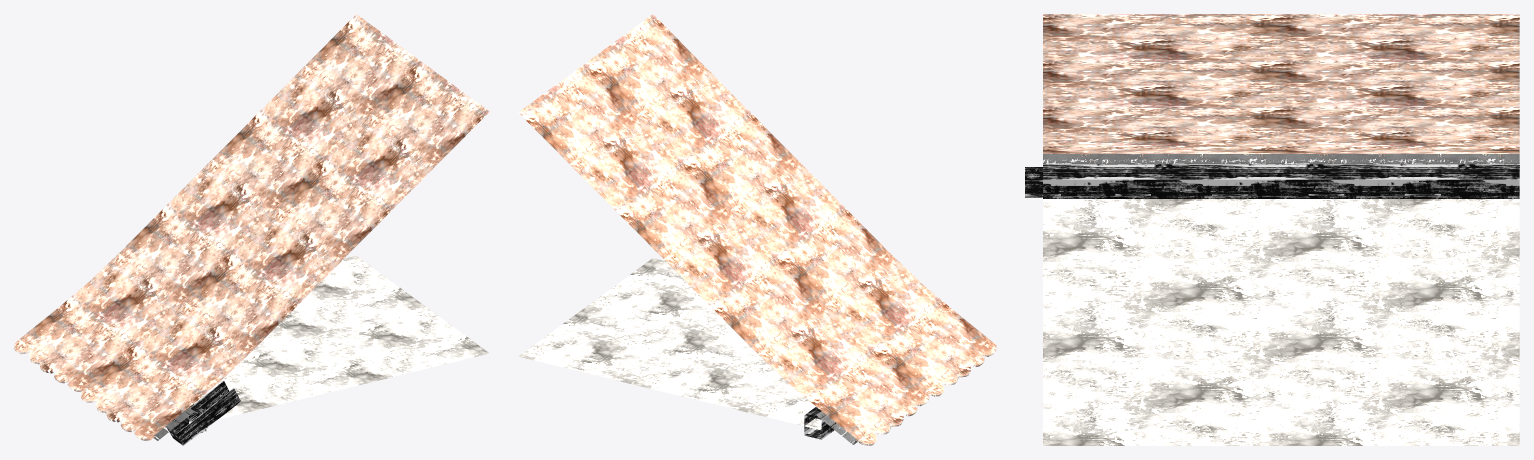
File: SM_roof_A_part_4_02_04.fbx
3 renders of one model, left to right at view 1: azimuth 30°, elevation 25°; view 2: azimuth 150°, elevation 25°; view 3: azimuth 270°, elevation 25°, orthographic. The views are drawn at different scales.
Parts seen in each view (by area): view 1: SM_roof_A_part_4_02_04_LOD0; view 2: SM_roof_A_part_4_02_04_LOD0; view 3: SM_roof_A_part_4_02_04_LOD0.
Boxes of the visible parts, x1,y1,x2,y2 form: SM_roof_A_part_4_02_04_LOD0: (14,14,489,445); SM_roof_A_part_4_02_04_LOD0: (518,14,996,445); SM_roof_A_part_4_02_04_LOD0: (1025,14,1519,445).
Size of the model in its own units: 601 by 415 by 421.
Materials: 5 (5 with a texture image).
